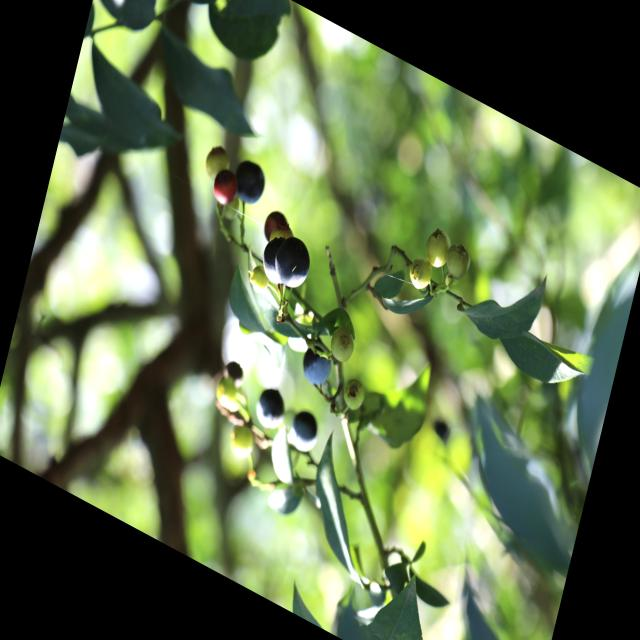blueberry: (273, 230, 316, 294), (287, 399, 325, 457), (231, 154, 268, 212), (297, 337, 334, 392), (253, 382, 289, 434), (256, 233, 289, 289)
blueberry-halfripe: (210, 166, 239, 210)
blueberry-unripe: (200, 134, 239, 188), (226, 416, 265, 468), (211, 364, 246, 418), (440, 236, 474, 288), (404, 247, 437, 297), (421, 223, 454, 271), (327, 321, 358, 369), (340, 374, 368, 416)
